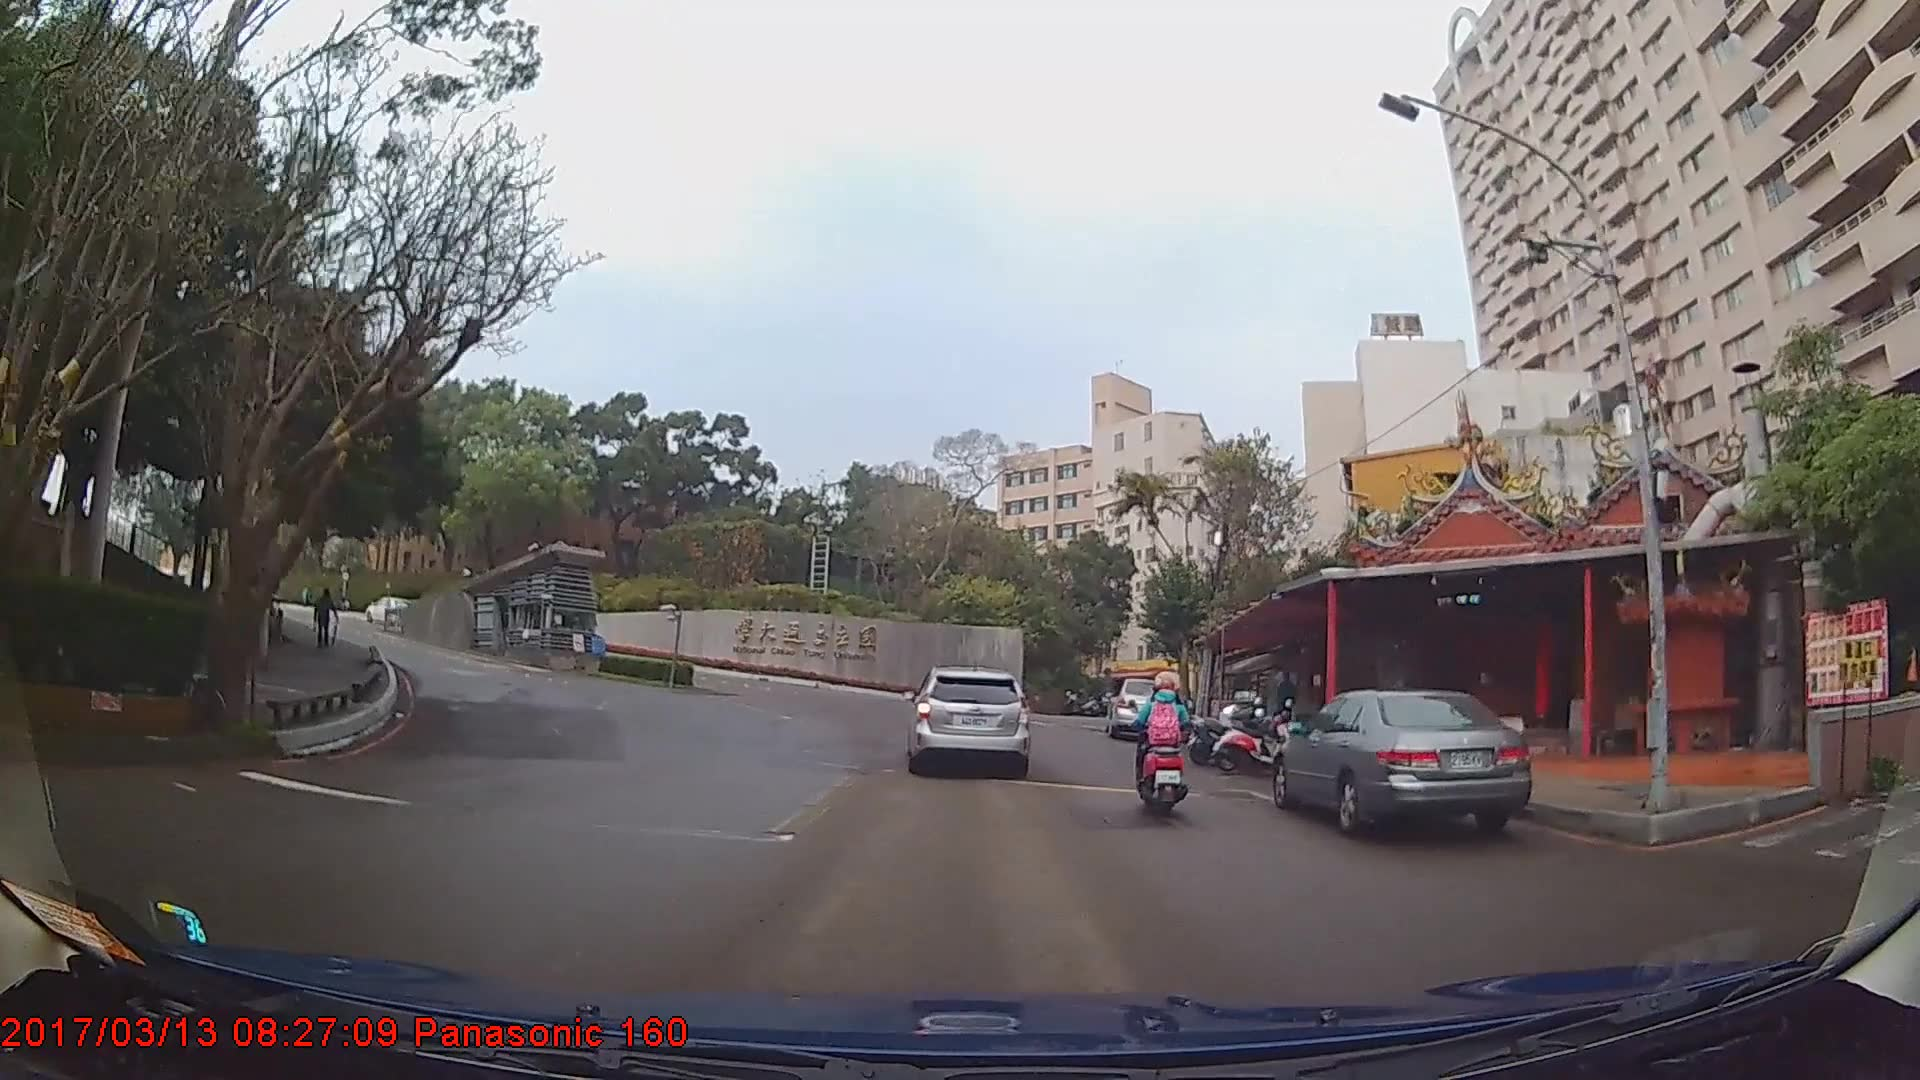pedestrian: (1275, 664, 1301, 733), (316, 591, 343, 650)
rider: (1132, 657, 1199, 812)
vehicle: (1274, 687, 1529, 832), (909, 662, 1029, 774), (1106, 675, 1177, 737), (363, 594, 417, 621)
